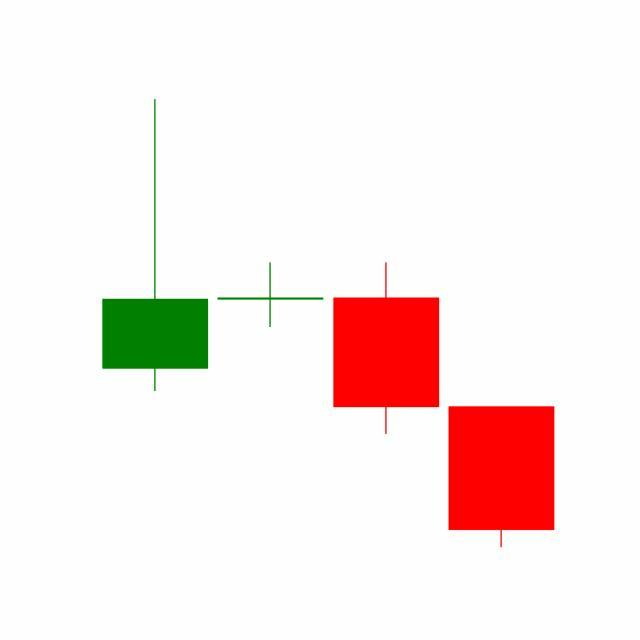Marubozu: (444, 406, 560, 550)
